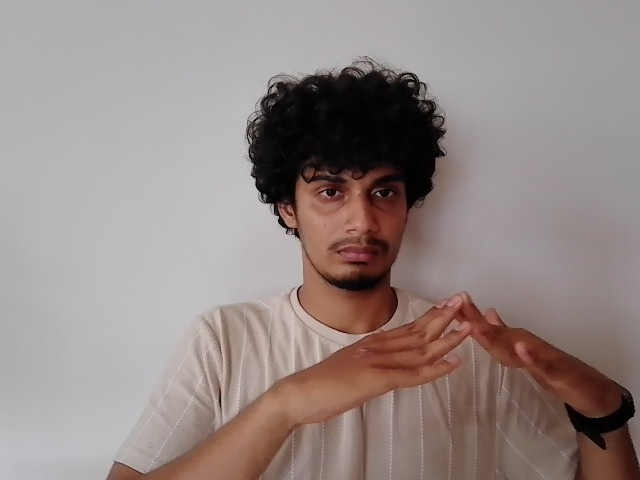home: (293, 288, 629, 419)
